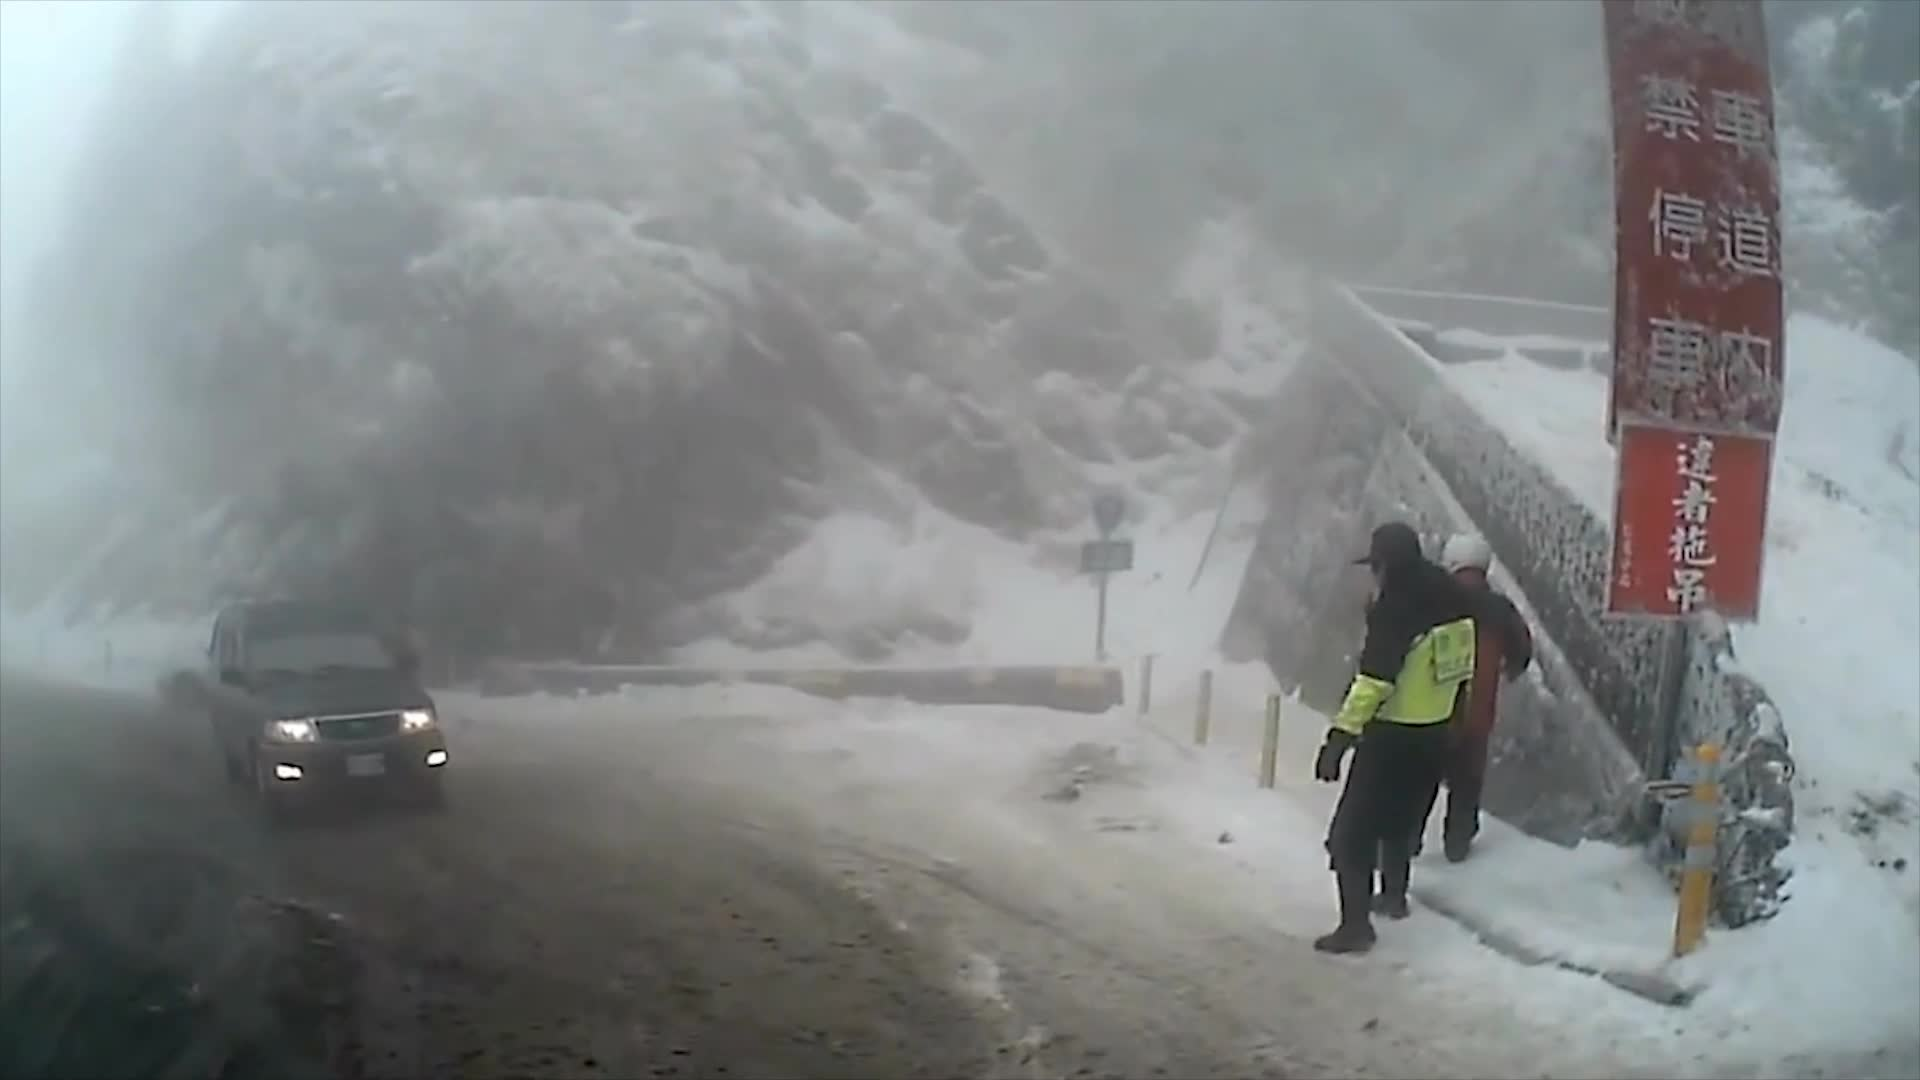pedestrian: (1309, 523, 1478, 954)
vehicle: (202, 592, 446, 816)
